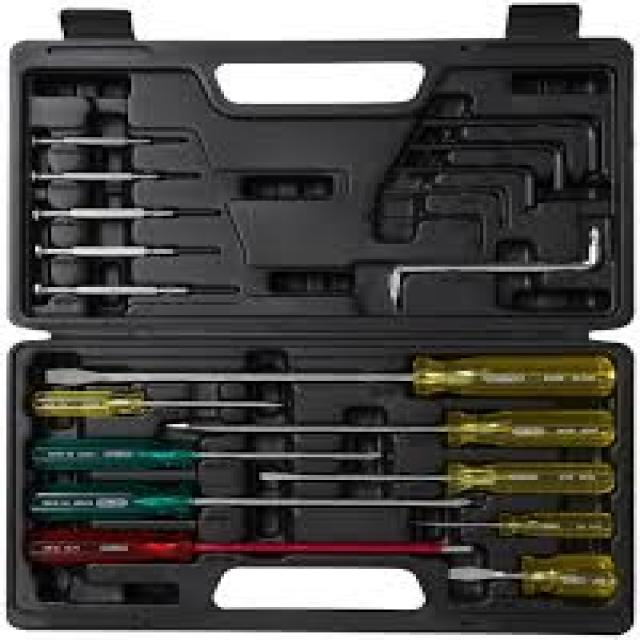screw driver: (18, 370, 297, 433), (442, 548, 632, 605), (427, 498, 620, 550)
